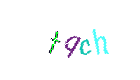C: (29, 0, 109, 80)
H: (53, 0, 133, 80)
Q: (27, 0, 107, 80)
T: (14, 0, 94, 80)
